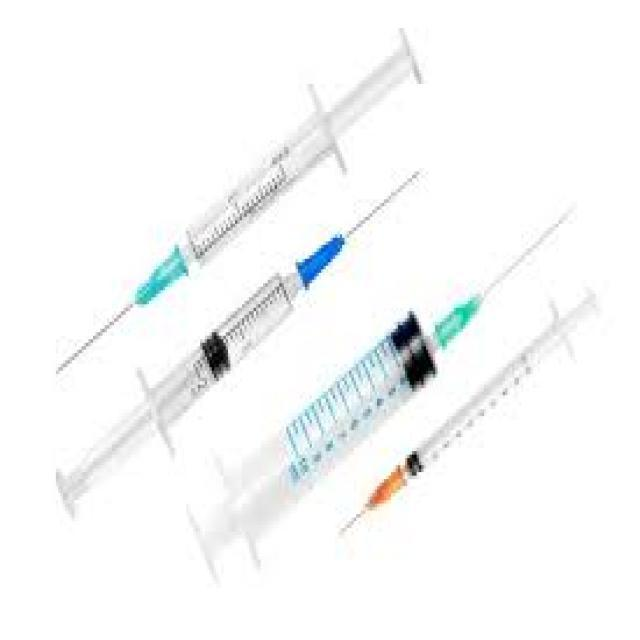syringe: (109, 80, 503, 555)
